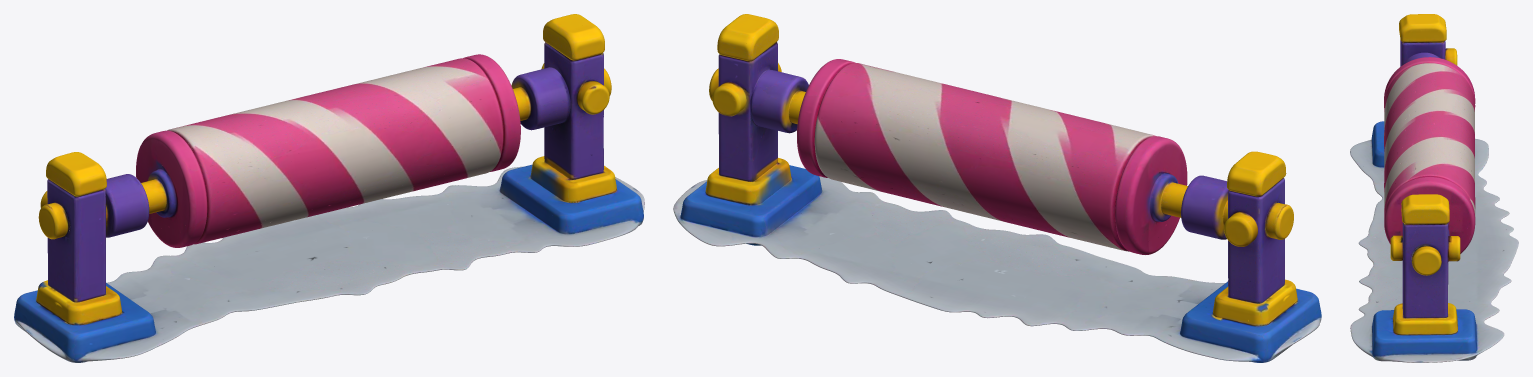
File: model-08-roller.glb
The picture shows the model from 3 angles, left to right: view 1: azimuth 30°, elevation 25°; view 2: azimuth 150°, elevation 25°; view 3: azimuth 270°, elevation 25°; orthographic projection. The views are drawn at different scales.
Visible parts, largest first — view 1: node_0; view 2: node_0; view 3: node_0.
Part boxes in pixels (left/top/right/bottom): node_0: left=14, top=14, right=644, bottom=362; node_0: left=673, top=14, right=1321, bottom=362; node_0: left=1350, top=14, right=1518, bottom=362.
Size of the model in its own units: 1.15 by 0.3412 by 0.3549.
1 material, 1 textured.
